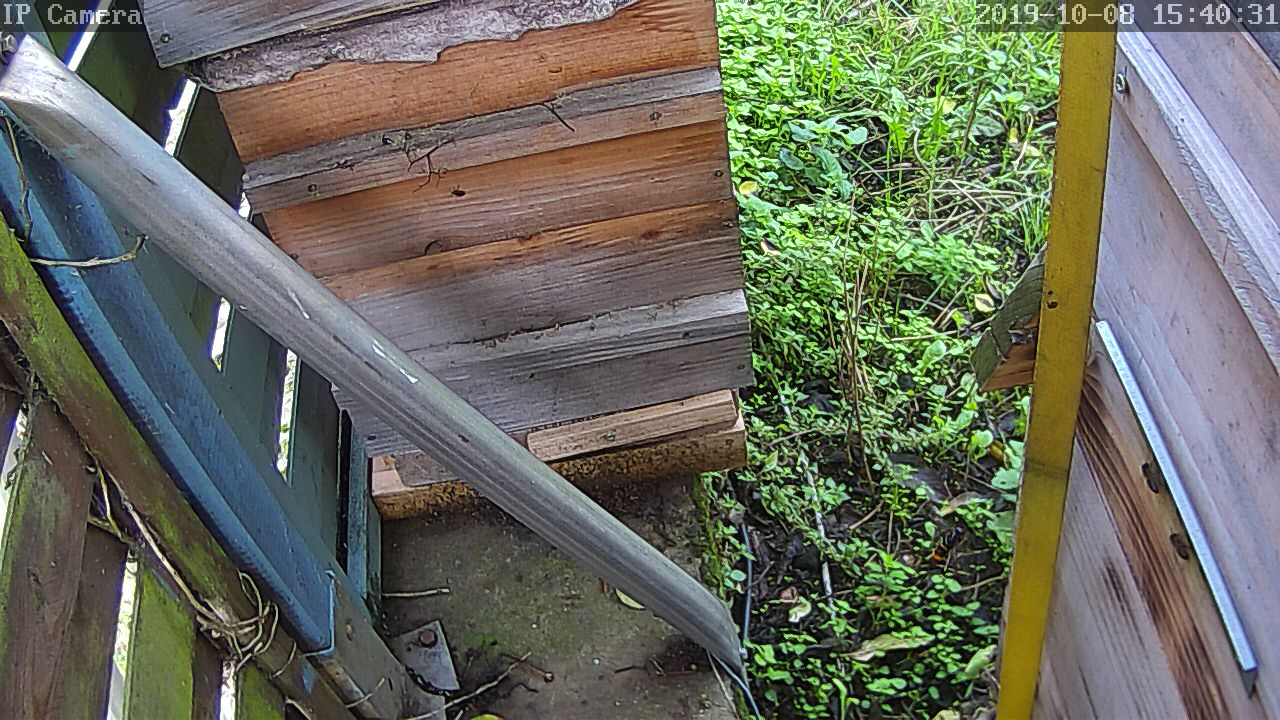bee: (1140, 456, 1173, 496), (1161, 523, 1193, 560)
hornet: (920, 515, 963, 573)
